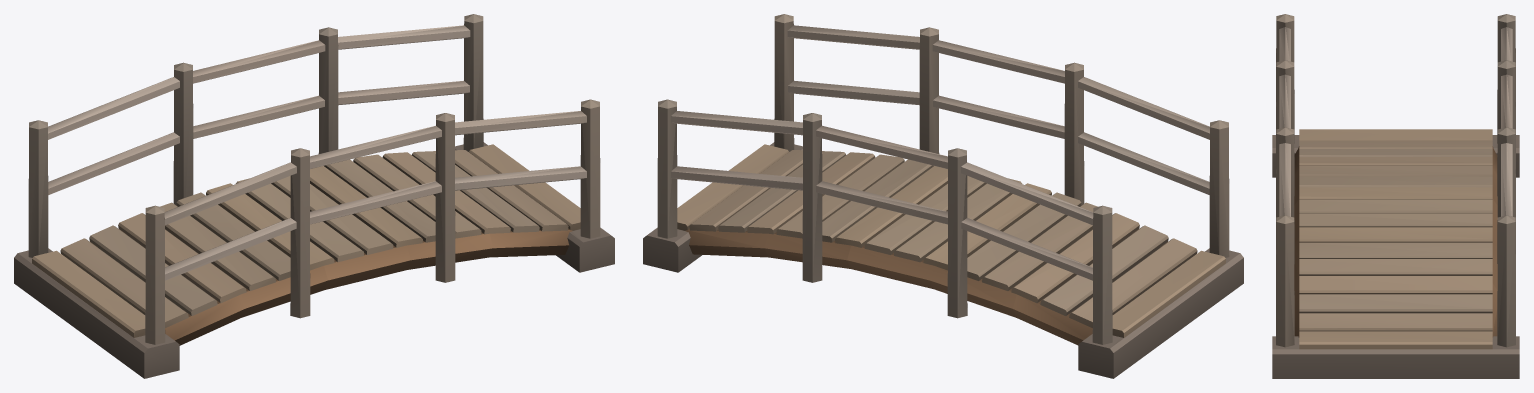
The model's file is footbridge.glb.
3 views of the same model, side by side, from view 1: azimuth 30°, elevation 25°; view 2: azimuth 150°, elevation 25°; view 3: azimuth 270°, elevation 25° (orthographic). The views are drawn at different scales.
Visible parts, largest first — view 1: footbridge; view 2: footbridge; view 3: footbridge.
Boxes of the visible parts, x1,y1,x2,y2 form: footbridge: (14,14,614,378); footbridge: (643,14,1243,378); footbridge: (1272,14,1519,378).
Size of the model in its own units: 7.2 by 2.72 by 3.46.
